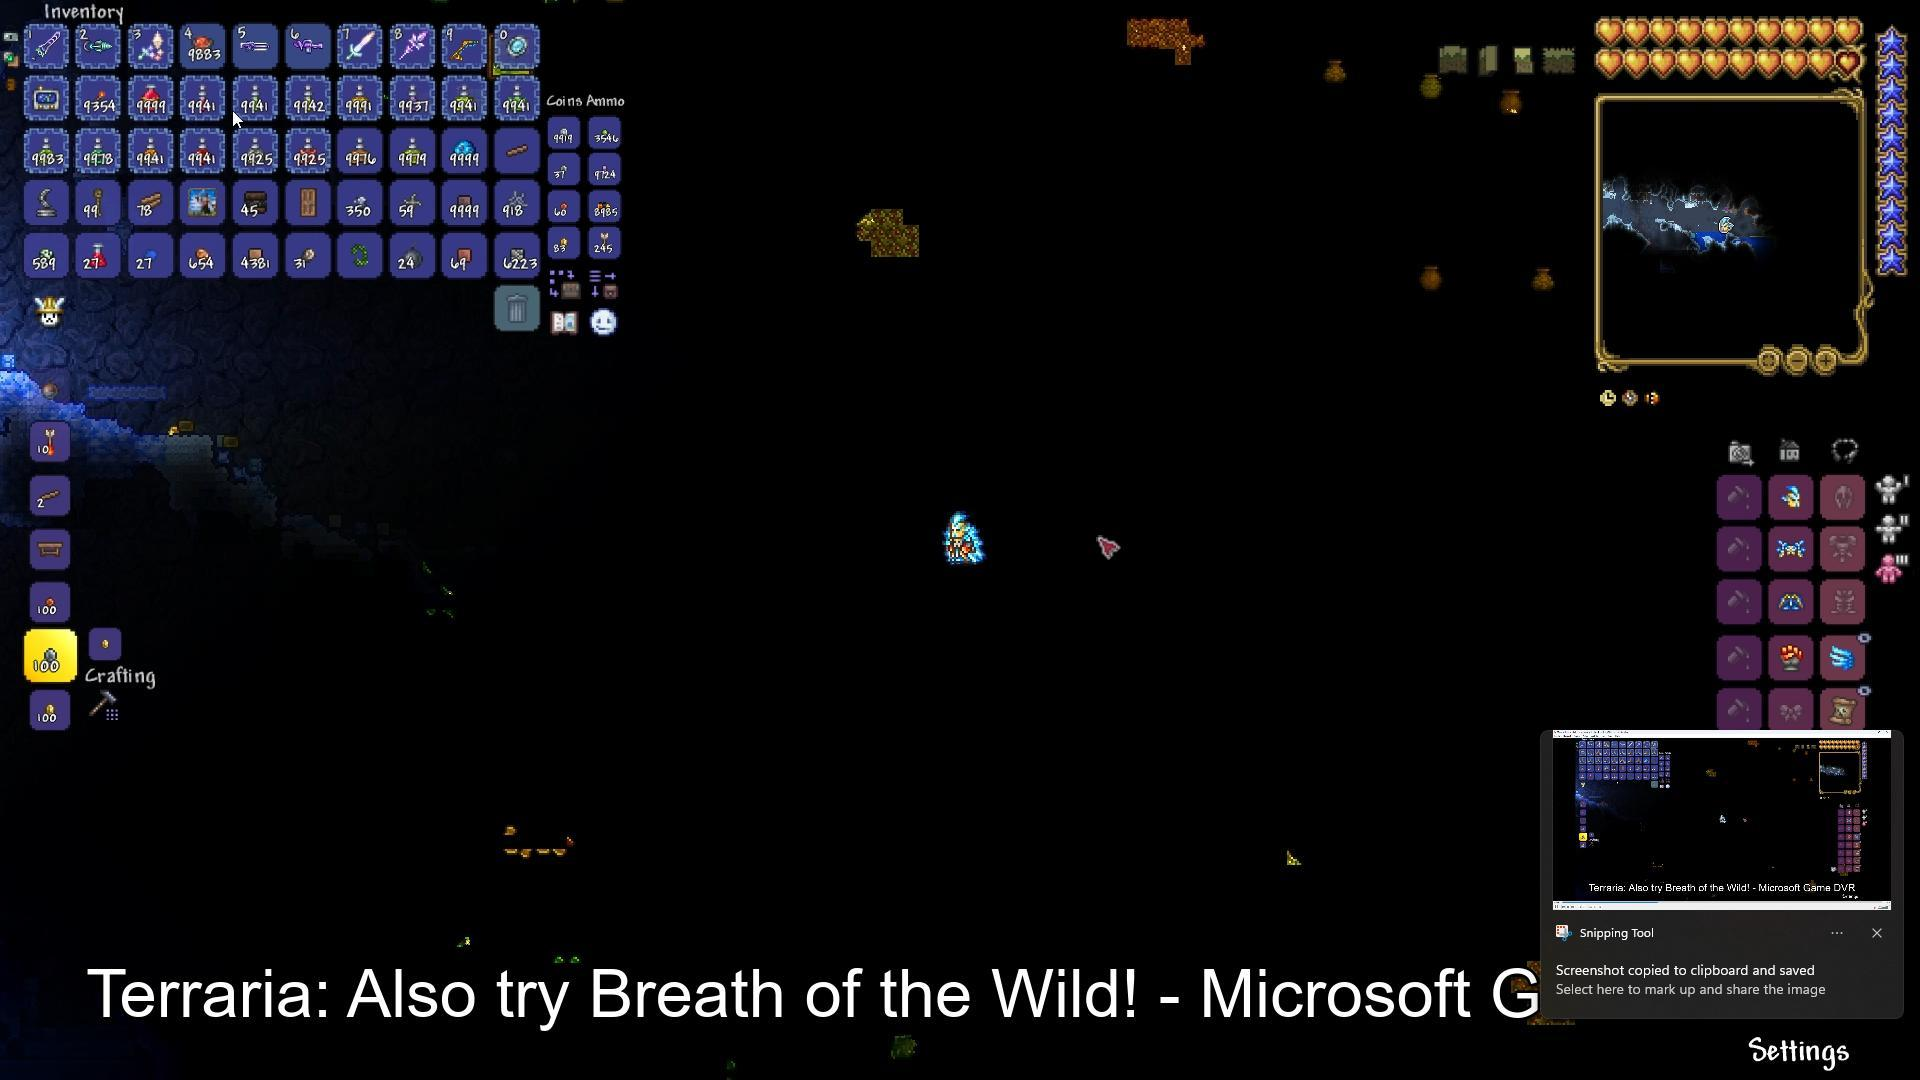cobwebT: (501, 187, 529, 215)
pot: (1523, 260, 1557, 295), (1321, 51, 1352, 84), (1498, 84, 1527, 113), (1416, 66, 1443, 98), (1420, 257, 1444, 287)
